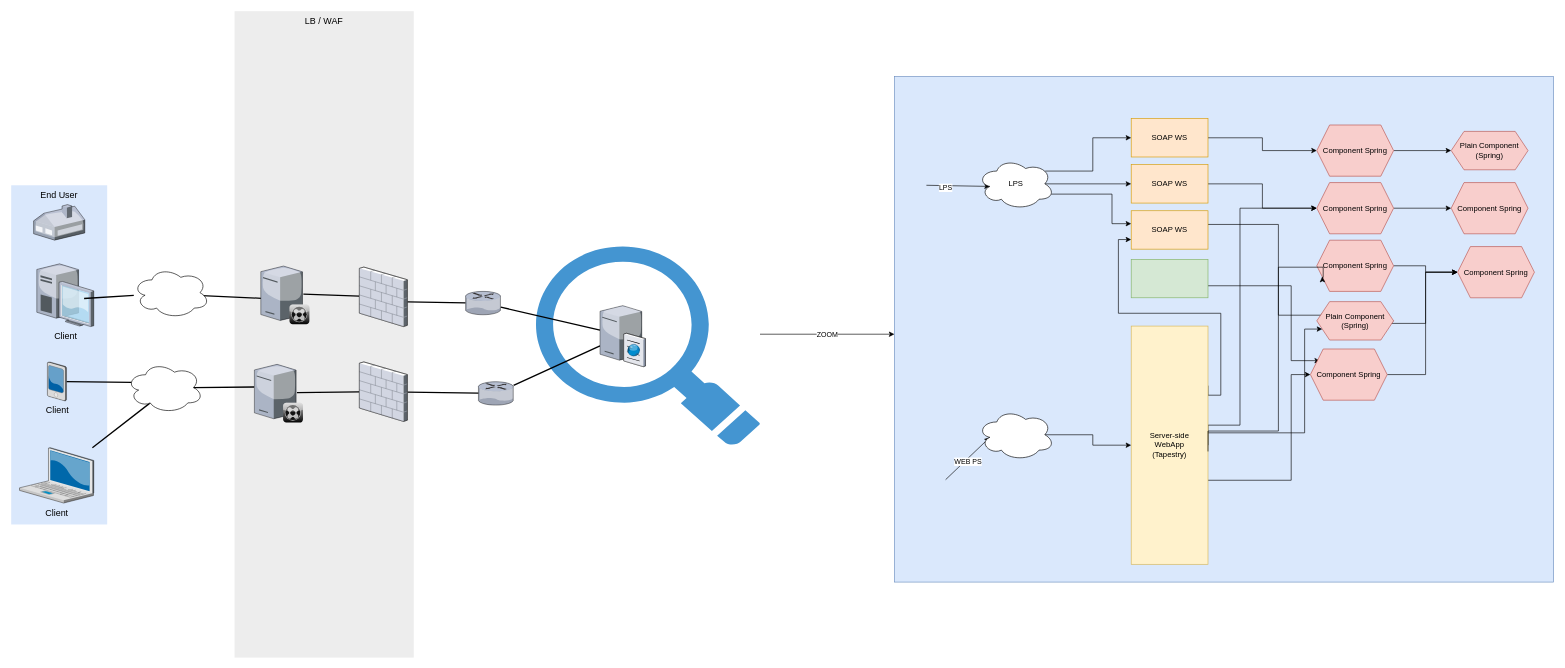
Image size: 1565x668. Some labels were removed from this diagram. The centre of each missing label's shape, as x and y in pixels:
"https:// LPS" goes at (171,292).
"https:// web ps" goes at (164,387).
"REST WS" goes at (1169,278).
"WebApp + EJB (JEE Server)" goes at (622,335).
"WEBPS" goes at (1015,434).
